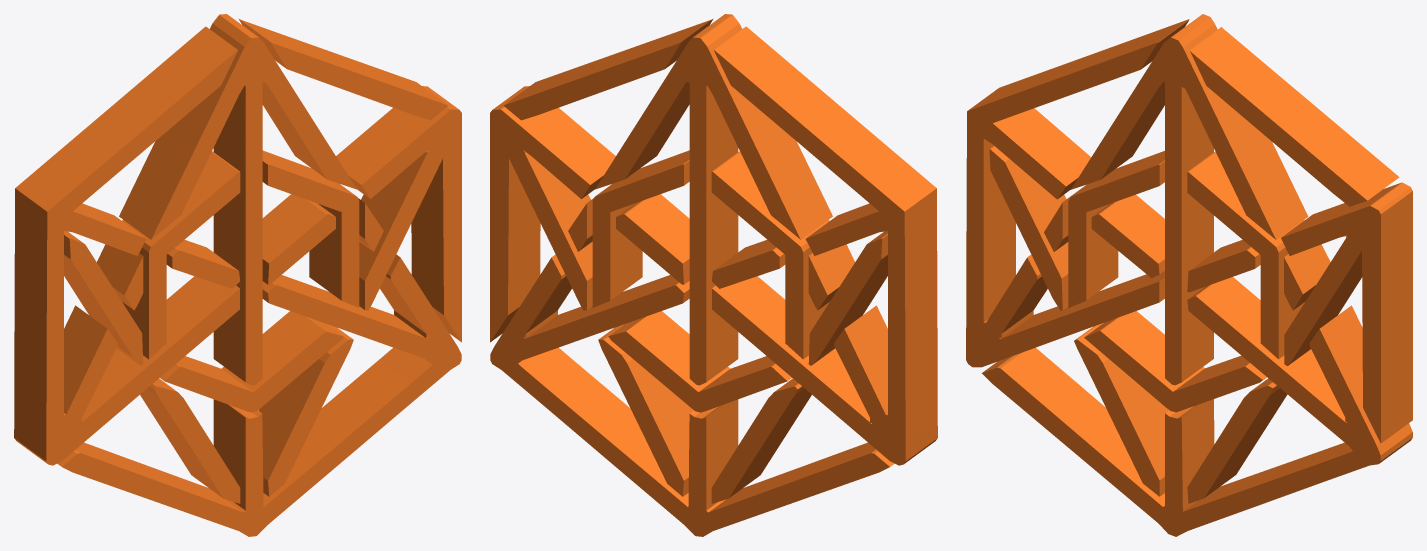
Rendered from wick-gifting.glb.
3 views of the same model, side by side, from view 1: azimuth 30°, elevation 25°; view 2: azimuth 150°, elevation 25°; view 3: azimuth 330°, elevation 25° (orthographic).
Size of the model in its own units: 0.0947 by 0.1087 by 0.0127.
